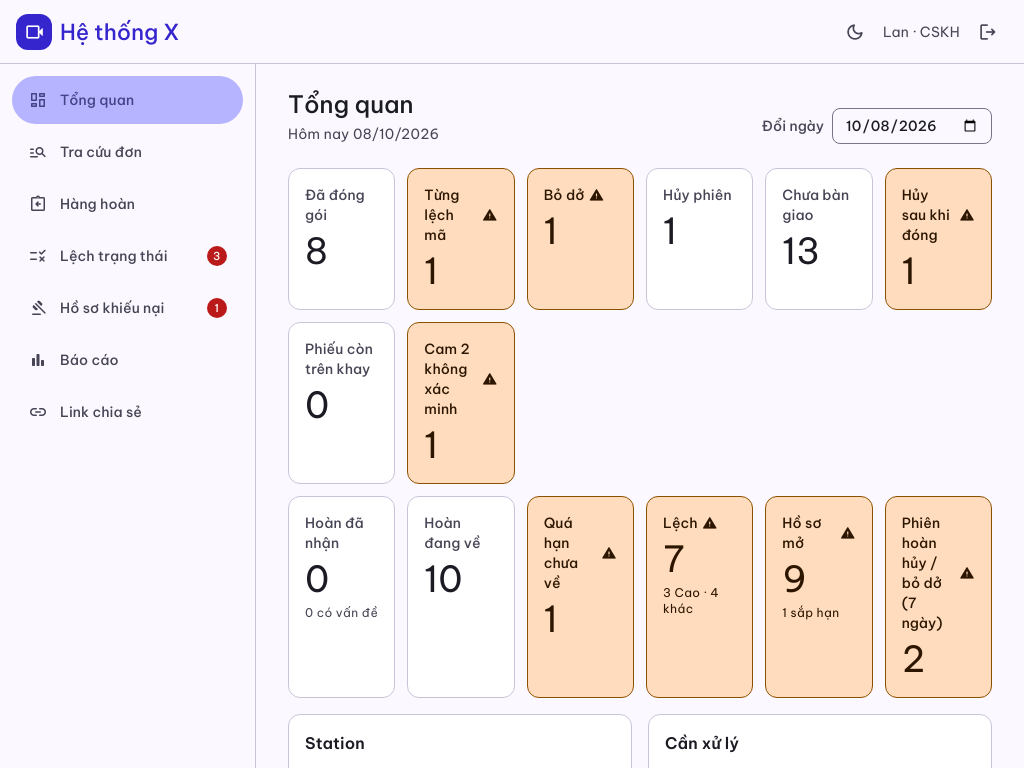
Test: TC-09.04: ngày không có phiên → thẻ theo ngày = 0 và câu trống
In the date field labelled "Đổi ngày": point(912, 126) [832,108,992,144], type "2026-01-01"
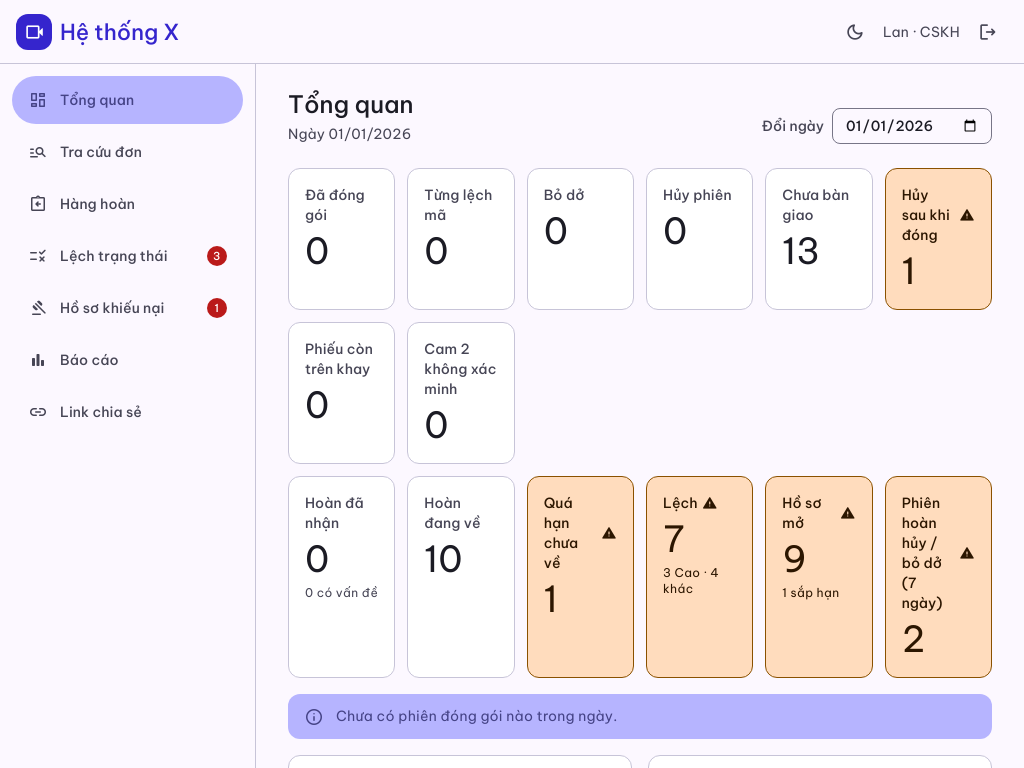
Expected: the link with aria-label "Đã đóng gói: 0." is shown, [288,168,395,310]
Now the text "Chưa có phiên đóng gói nào trong ngày." is shown, box [336,707,618,725]
Now the text "Ngày 01/01/2026" is shown, box [288,124,414,144]
